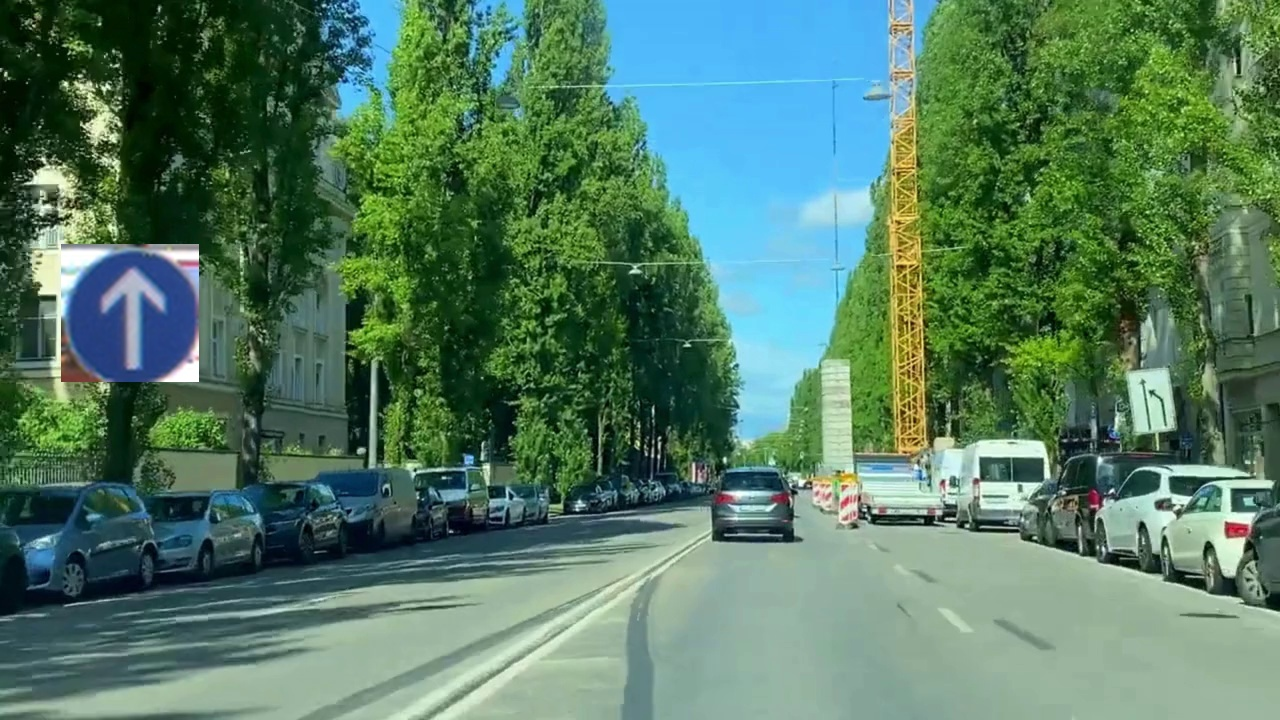Ahead only: (61, 244, 199, 382)
